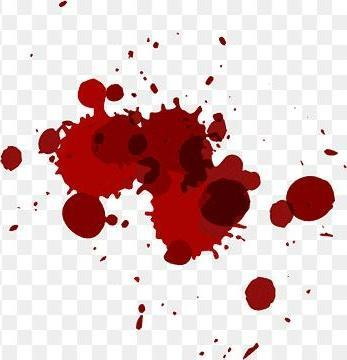Fire: (38, 77, 261, 265), (269, 175, 335, 228), (244, 276, 275, 311), (0, 145, 22, 171)
